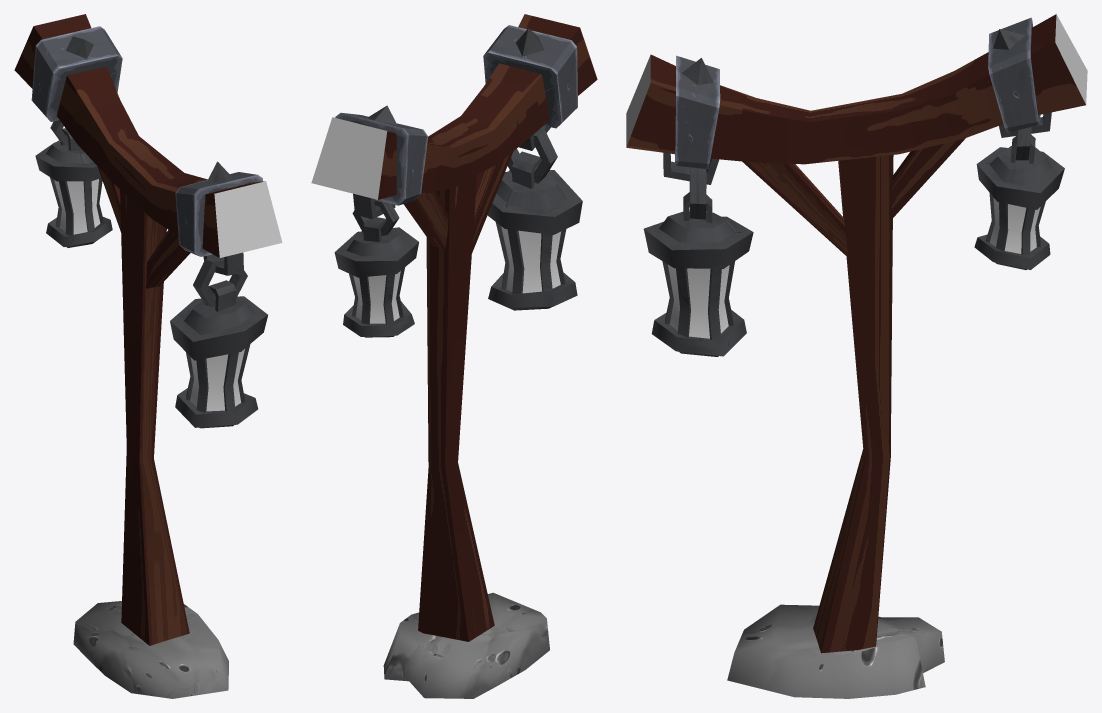
File: SM_PROP_streetlamp_v02_02.fbx
The picture shows the model from 3 angles, left to right: view 1: azimuth 30°, elevation 25°; view 2: azimuth 150°, elevation 25°; view 3: azimuth 270°, elevation 25°; orthographic projection. The views are drawn at different scales.
Visible parts, largest first — view 1: SM_PROP_streetlamp_v02_02; view 2: SM_PROP_streetlamp_v02_02; view 3: SM_PROP_streetlamp_v02_02.
Boxes of the visible parts, left/top/right/bottom form: SM_PROP_streetlamp_v02_02: left=14, top=14, right=282, bottom=698; SM_PROP_streetlamp_v02_02: left=311, top=14, right=597, bottom=698; SM_PROP_streetlamp_v02_02: left=626, top=14, right=1087, bottom=698.
Bounding box in the file's own units: 82.32 × 402 × 263.
